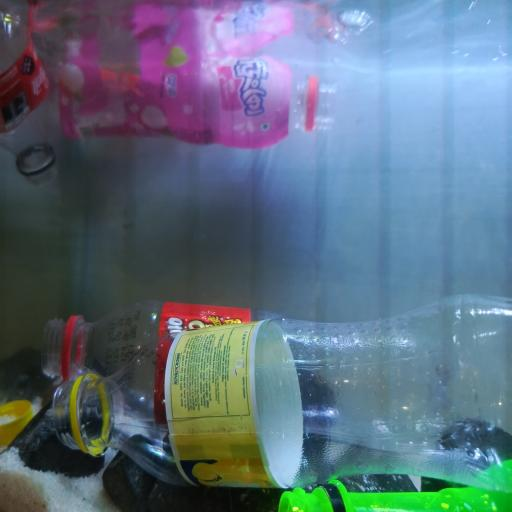bottle_cap: (2, 399, 36, 449)
plastic_bottle: (55, 294, 512, 489), (42, 298, 450, 443), (56, 54, 340, 148), (273, 460, 511, 509), (0, 9, 64, 190)
